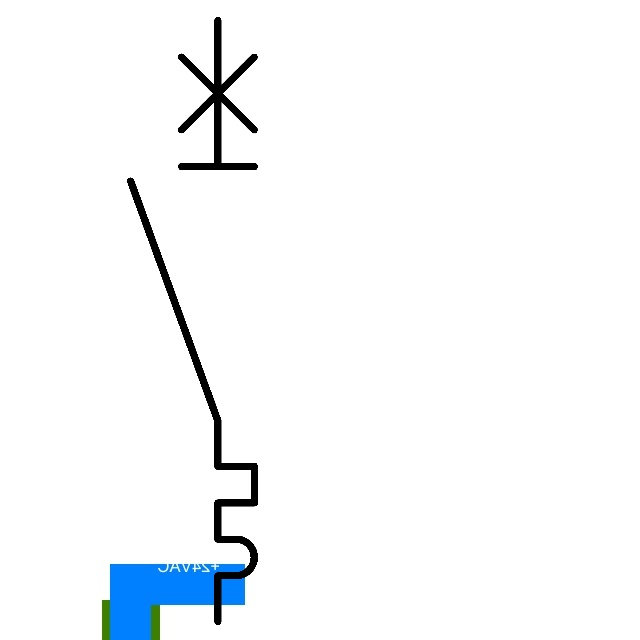interruptor_termomagnetico: (115, 5, 270, 637)
